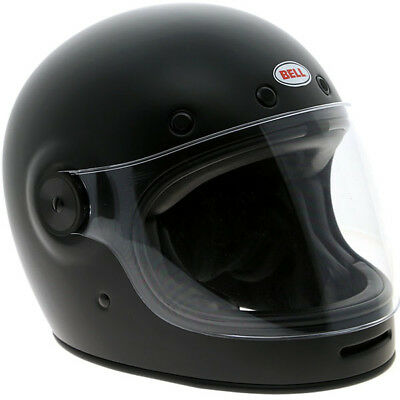with_helmet: (3, 4, 399, 393)
